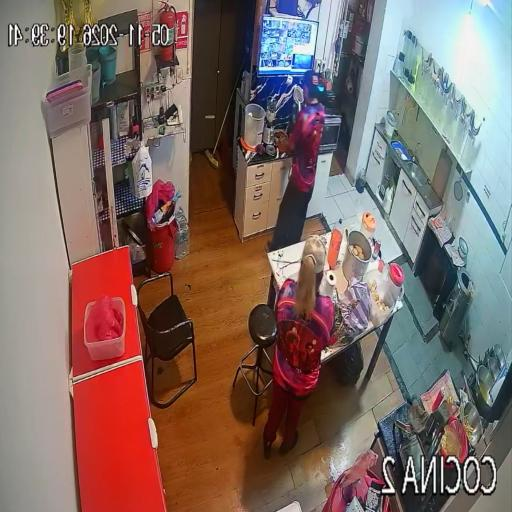Balde: (243, 103, 265, 148)
Envase Ketchup: (433, 389, 446, 411)
Envase Llajua: (445, 395, 453, 412)
Jarra1: (388, 263, 404, 304)
Jarra2: (359, 212, 376, 238)
Microondas: (319, 113, 341, 152)
Persona1: (271, 71, 325, 249)
Persona2: (263, 236, 334, 457)
Taper3: (364, 270, 395, 325)
Taper4: (84, 302, 126, 360), (113, 297, 125, 320)
olla1: (343, 230, 372, 281)
